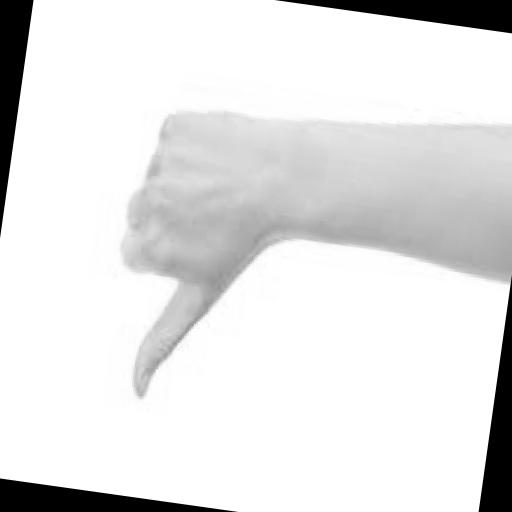Thumbs_Down: (76, 48, 398, 456)
